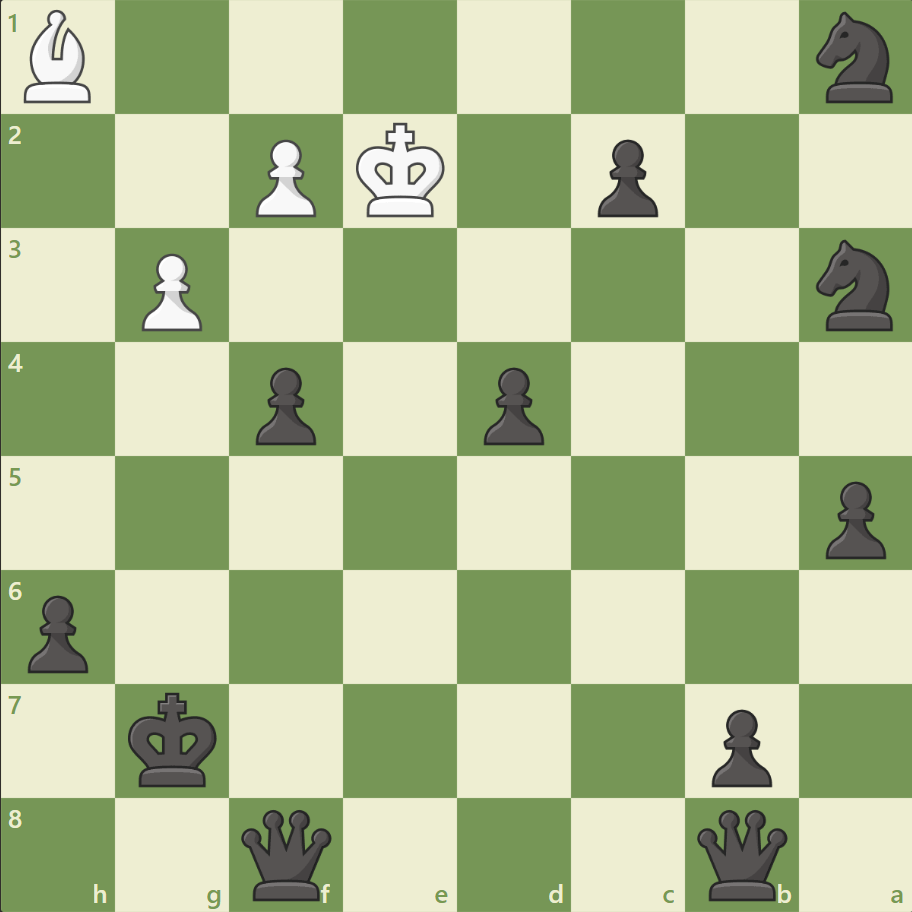B: (17, 6, 101, 109)
K: (351, 117, 451, 225)
P: (133, 246, 208, 337), (247, 132, 322, 223)
k: (124, 685, 224, 793)
n: (806, 234, 903, 337), (806, 7, 903, 110)
p: (701, 700, 776, 791), (20, 586, 95, 677), (474, 359, 549, 450), (247, 359, 322, 450), (815, 473, 889, 564), (588, 132, 662, 223)
q: (691, 804, 790, 903), (237, 804, 336, 903)
